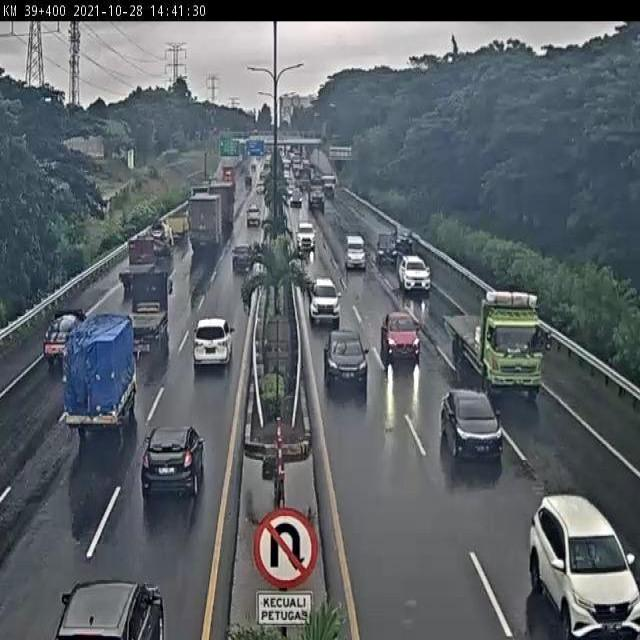car: (529, 493, 640, 640), (440, 389, 504, 462), (141, 424, 203, 499), (43, 307, 89, 365), (324, 329, 369, 387), (192, 318, 234, 370), (380, 310, 421, 362), (308, 277, 340, 327), (398, 255, 431, 293), (345, 236, 366, 269), (375, 233, 398, 263), (231, 243, 254, 272), (295, 221, 316, 251)
mid truck: (443, 291, 544, 401)
truck-m-: (61, 312, 137, 432), (119, 270, 172, 354), (118, 239, 156, 289), (142, 221, 173, 267)
